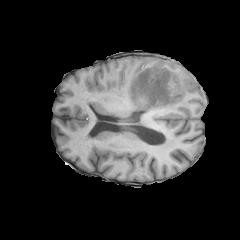glioma: (116, 59, 195, 111)
